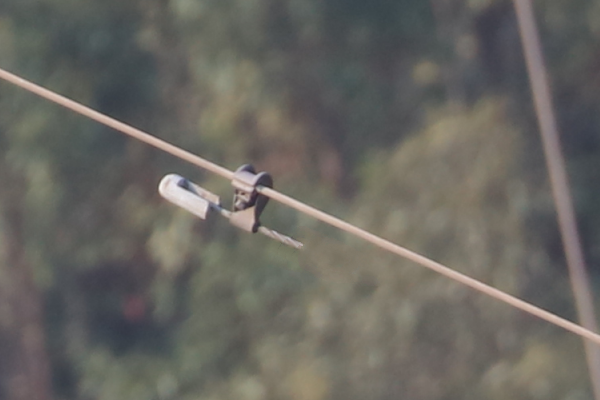damper_defect: (156, 157, 301, 250)
